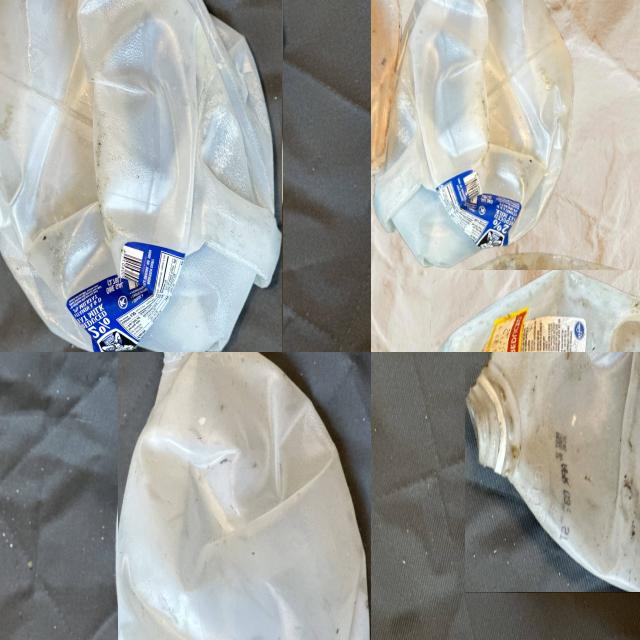milk-jug: (0, 0, 282, 352), (117, 352, 371, 640), (371, 0, 574, 256), (464, 352, 640, 592), (429, 268, 640, 352)
